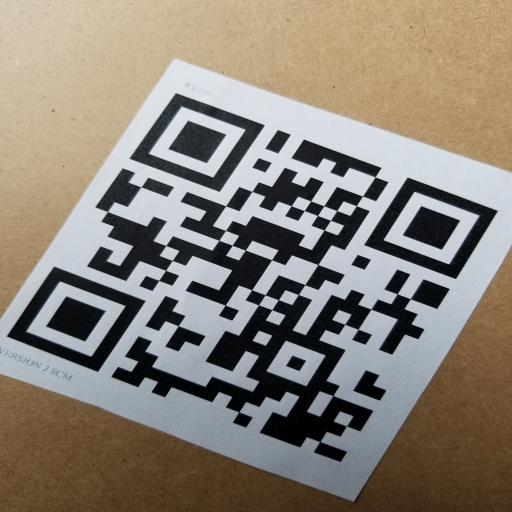QR_CODE: (2, 78, 504, 466)
